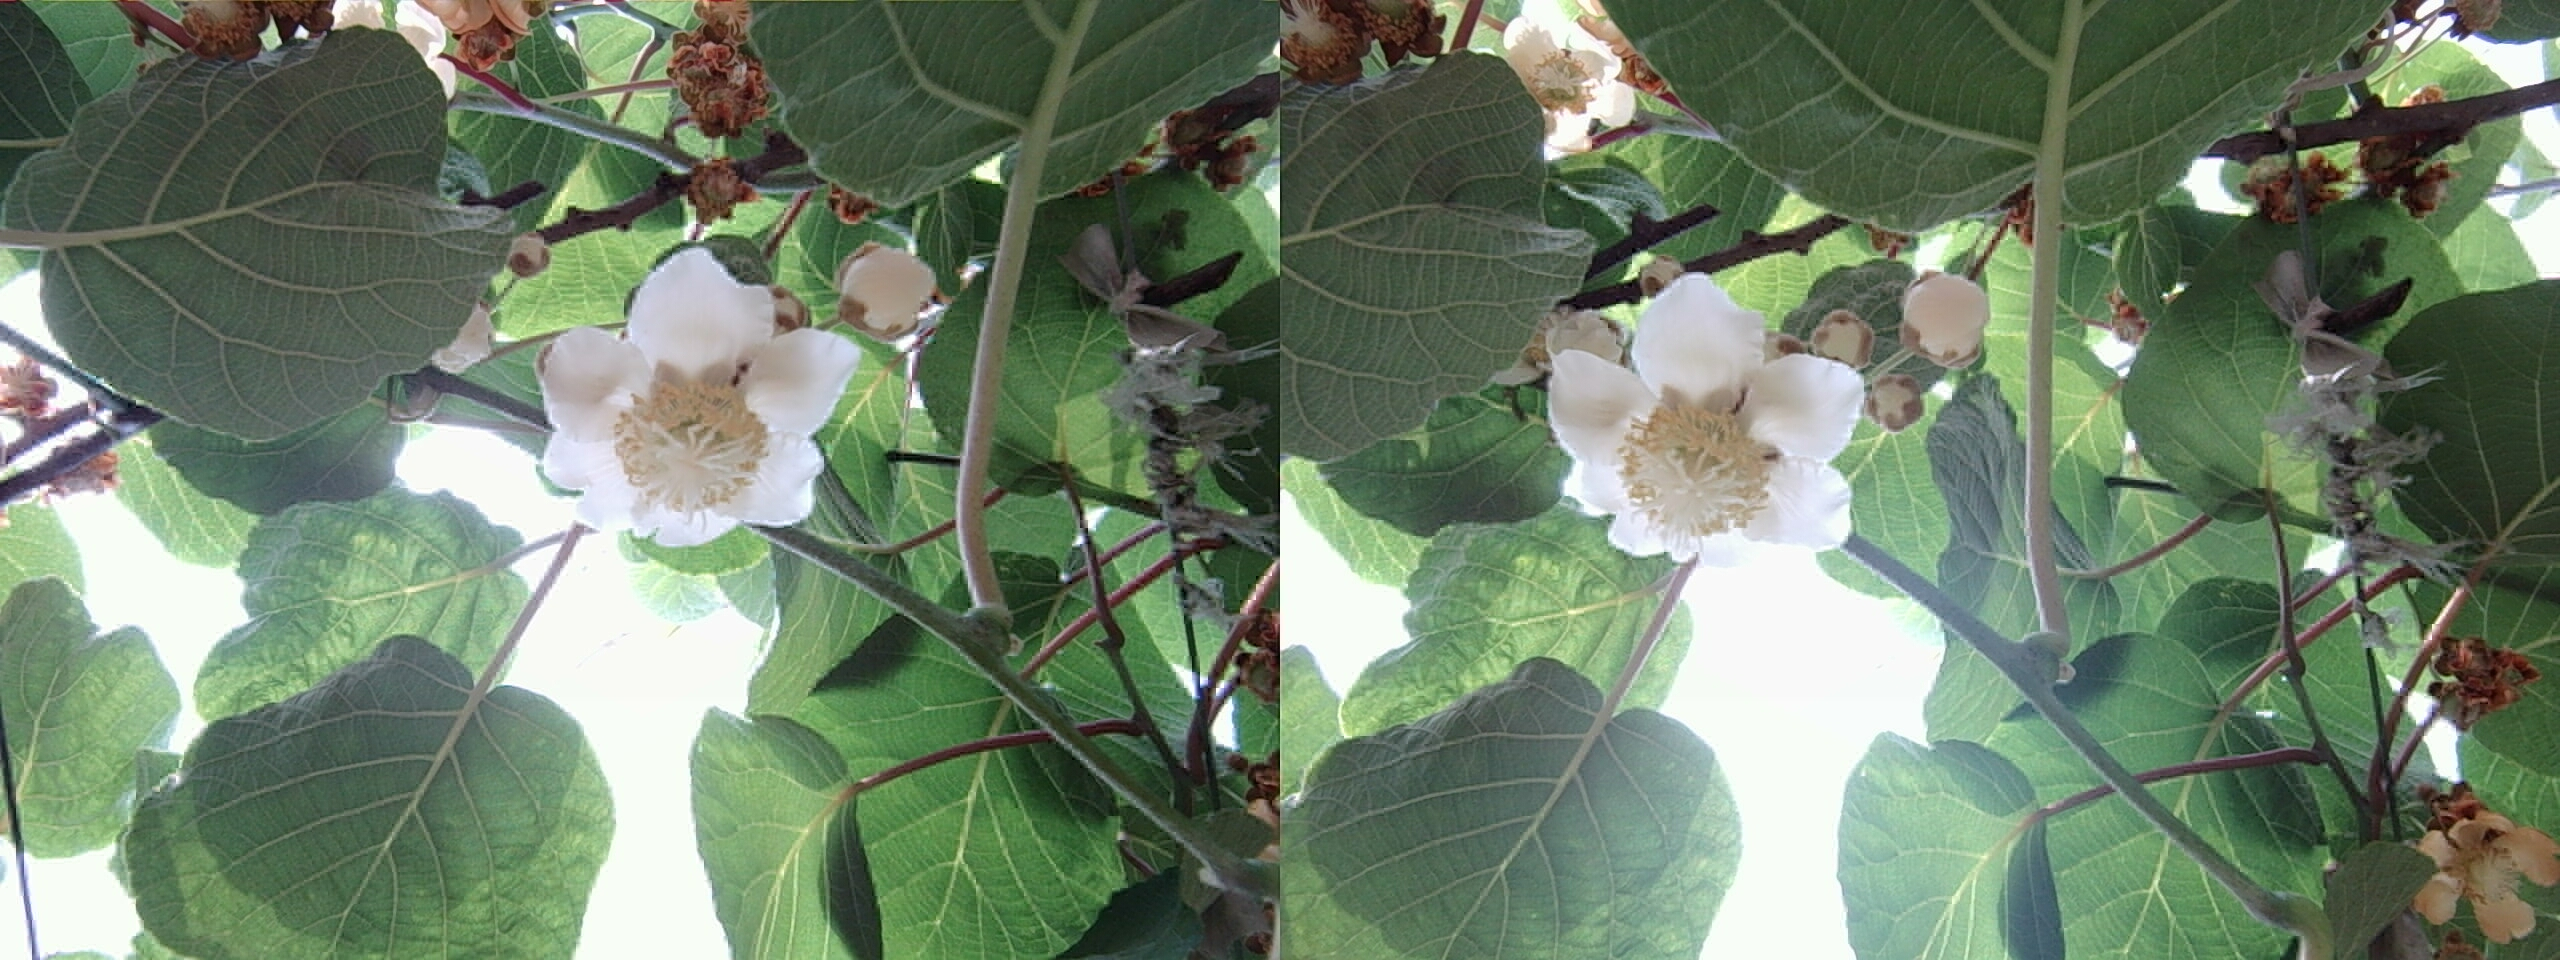flower: (1551, 309, 1853, 568), (532, 304, 836, 544), (1497, 10, 1629, 134)
